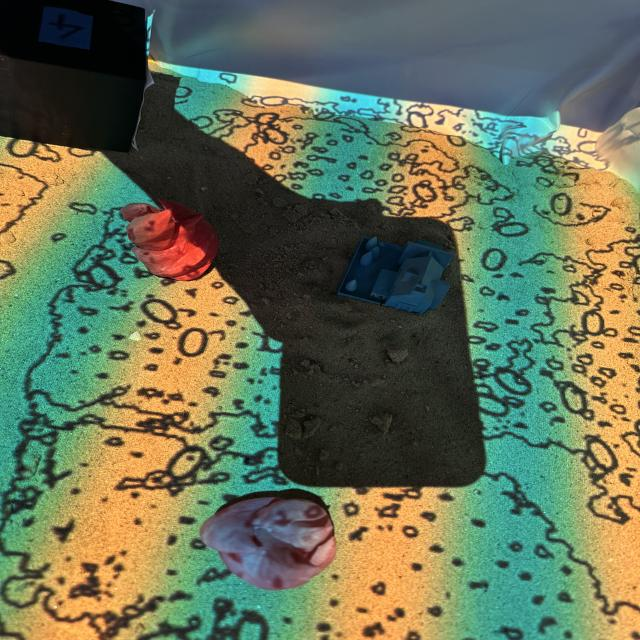fire: (201, 494, 340, 587), (121, 197, 219, 282)
house: (339, 232, 453, 317)
